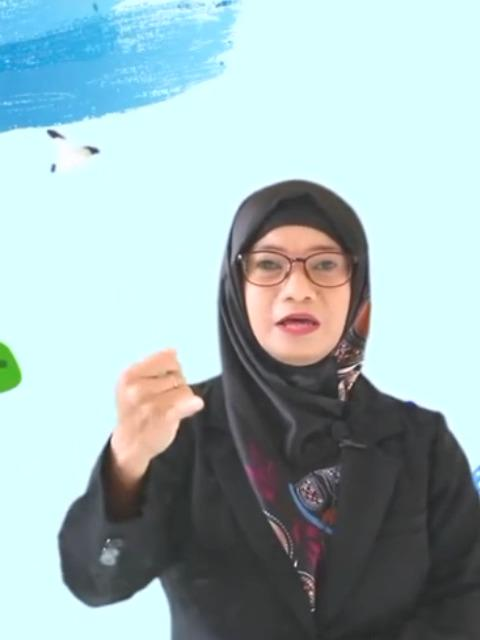J: (110, 348, 206, 464)
